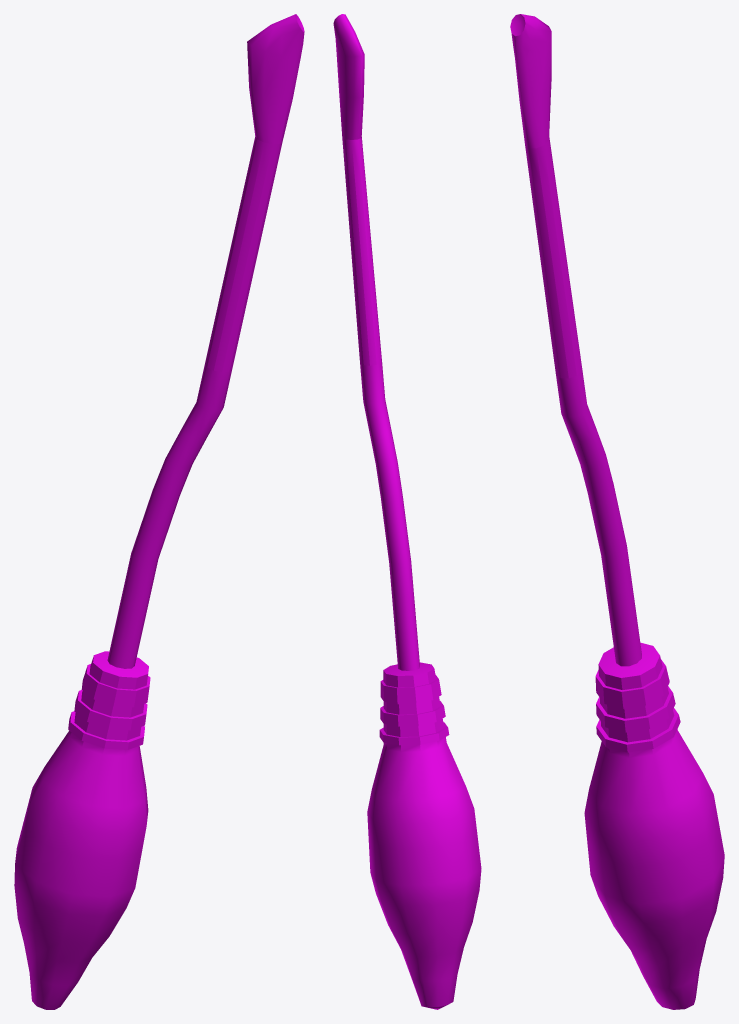
File: broom_stick_lowpoly.fbx
3 renders of one model, left to right at view 1: azimuth 30°, elevation 25°; view 2: azimuth 150°, elevation 25°; view 3: azimuth 270°, elevation 25°, orthographic. The views are drawn at different scales.
Visible parts, largest first — view 1: polySurface154; view 2: polySurface154; view 3: polySurface154.
Boxes of the visible parts, x1,y1,x2,y2 form: polySurface154: (14, 14, 304, 1009); polySurface154: (333, 14, 481, 1009); polySurface154: (510, 14, 724, 1009).
Size of the model in its own units: 42.24 by 187 by 33.38.
